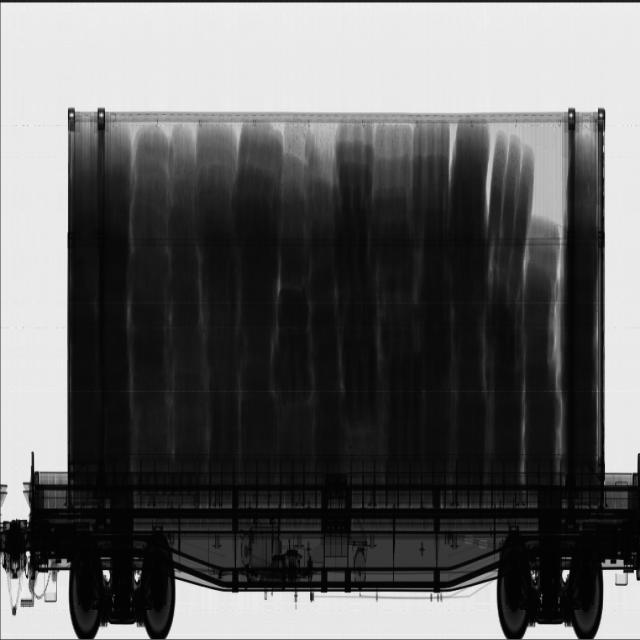clothes: (71, 119, 600, 466)
